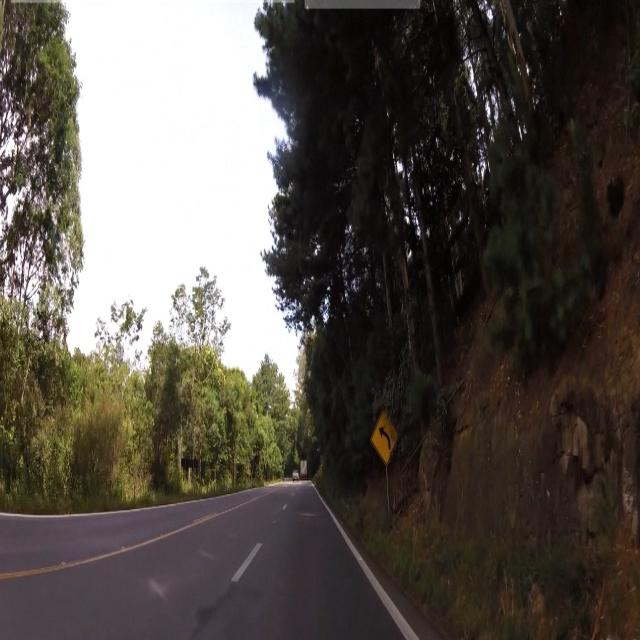A-2a: (367, 406, 399, 471)
